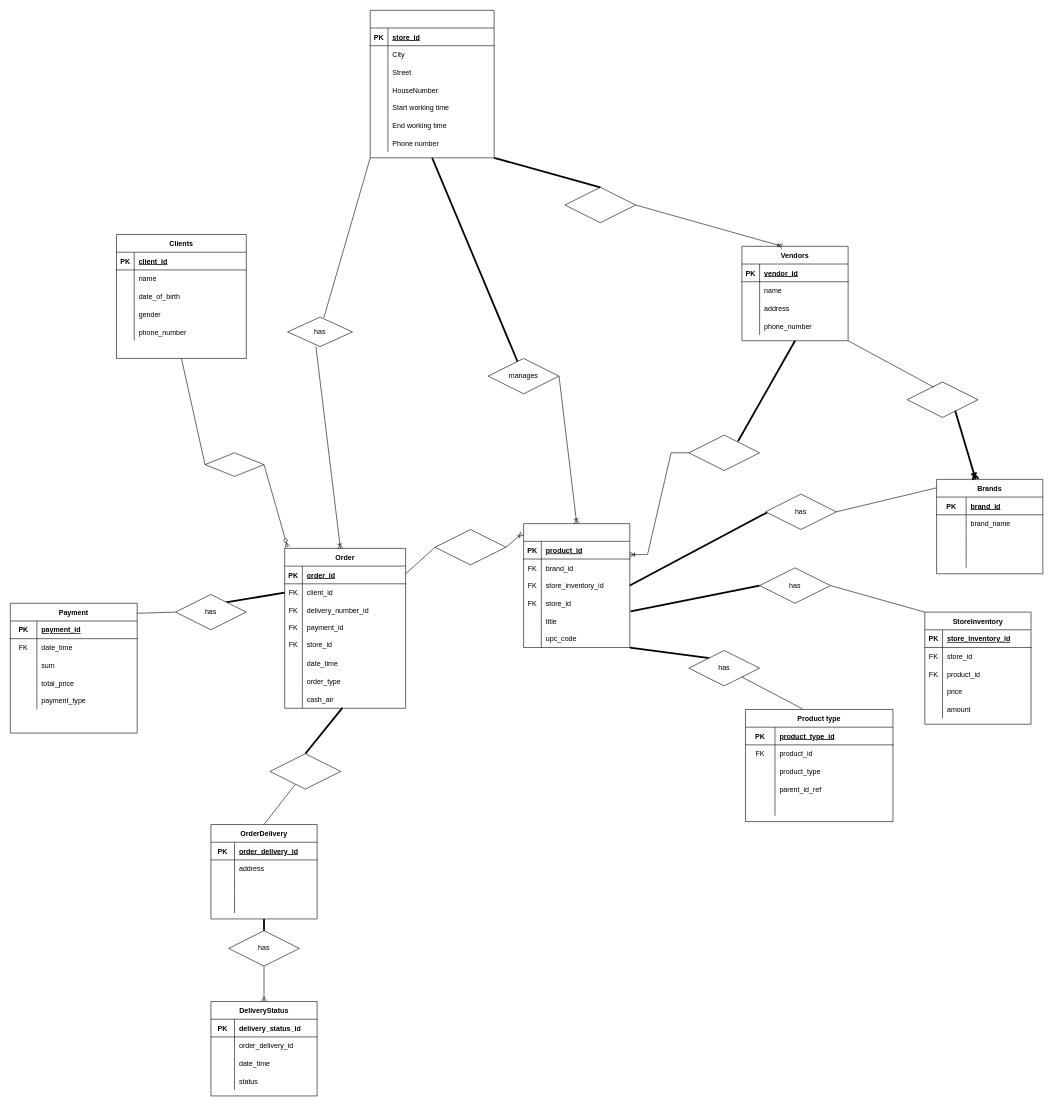
The diagram is 1053 pixels wide and 1106 high, and some of its shapes have lost their labels. The box of each missing label's shape, as (x1, y1, x2, y2) in pixels:
can be: (269, 753, 341, 789)
collaborates: (564, 187, 636, 223)
delivery: (688, 435, 760, 471)
makes: (204, 452, 264, 476)
order_items: (435, 529, 506, 565)
Products: (523, 523, 630, 648)
Stores: (370, 10, 494, 158)
vendor_brand: (907, 381, 978, 417)
